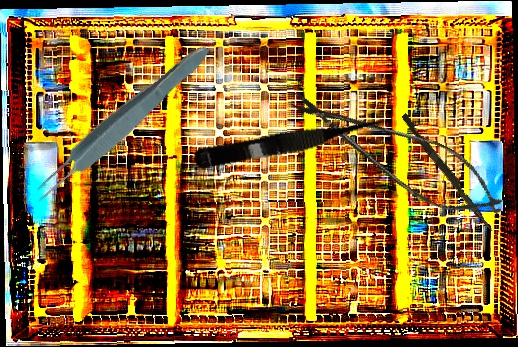Micro Scissor: (278, 74, 515, 234), (191, 110, 397, 175)
Pusher: (398, 113, 498, 233)
Tissue Forceps: (25, 36, 217, 210)
